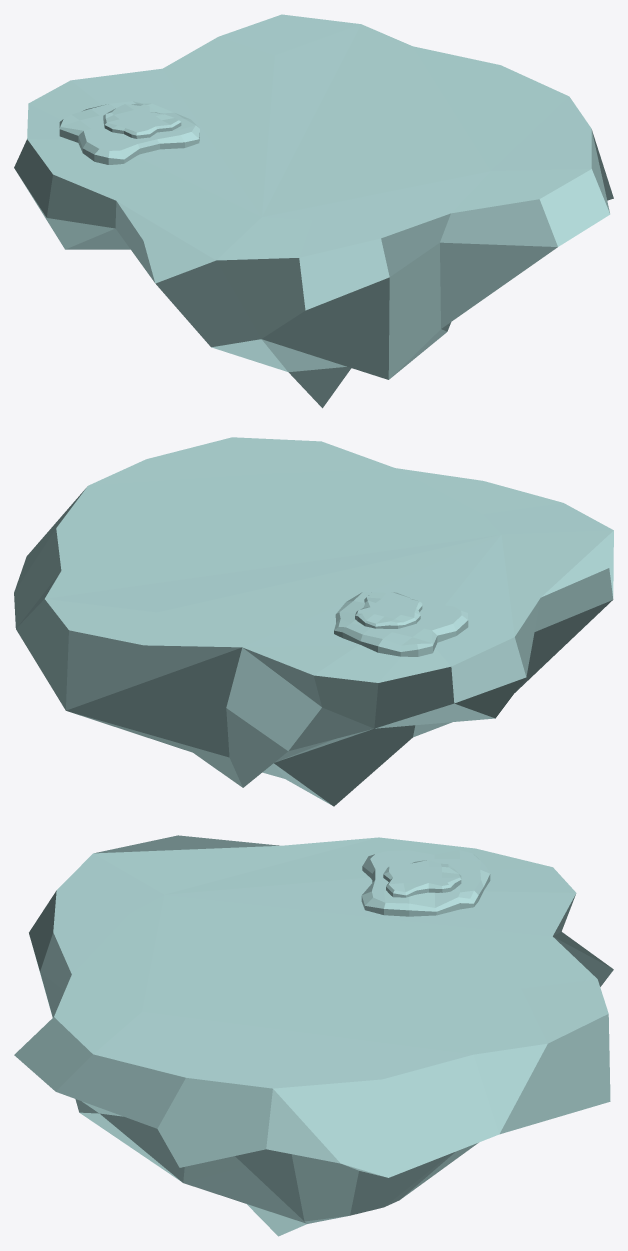
Rendered from iceberg_03.fbx.
3 views of the same model, one above another, from view 1: azimuth 30°, elevation 25°; view 2: azimuth 150°, elevation 25°; view 3: azimuth 270°, elevation 25° (orthographic). The views are drawn at different scales.
Visible parts, largest first — view 1: iceberg_03; view 2: iceberg_03; view 3: iceberg_03.
Boxes of the visible parts, x1,y1,x2,y2 form: iceberg_03: (14, 14, 613, 408); iceberg_03: (14, 437, 613, 806); iceberg_03: (14, 835, 613, 1236).
Size of the model in its own units: 143 by 73.53 by 134.
